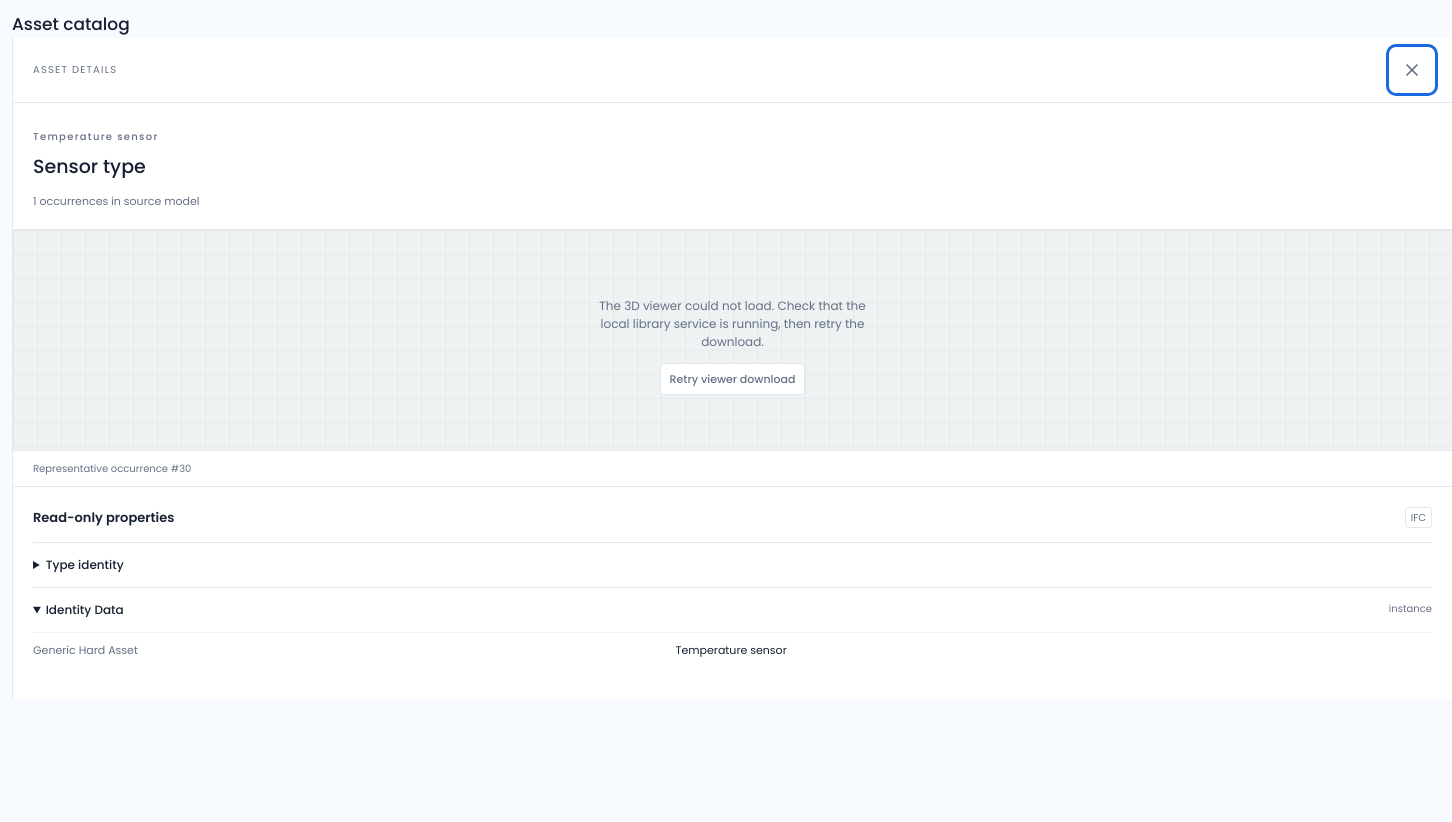
Test: keeps catalog and properties available after a viewer download fails, then retries the loader
The width and height of the screenshot is (1452, 822).
Check: the heading "Asset catalog" is shown, box [12, 12, 130, 36]
Check: the text "Generic Hard Asset" is shown, box [33, 642, 138, 658]
Click the button "Retry viewer download".
click(732, 379)  # box [660, 363, 805, 395]
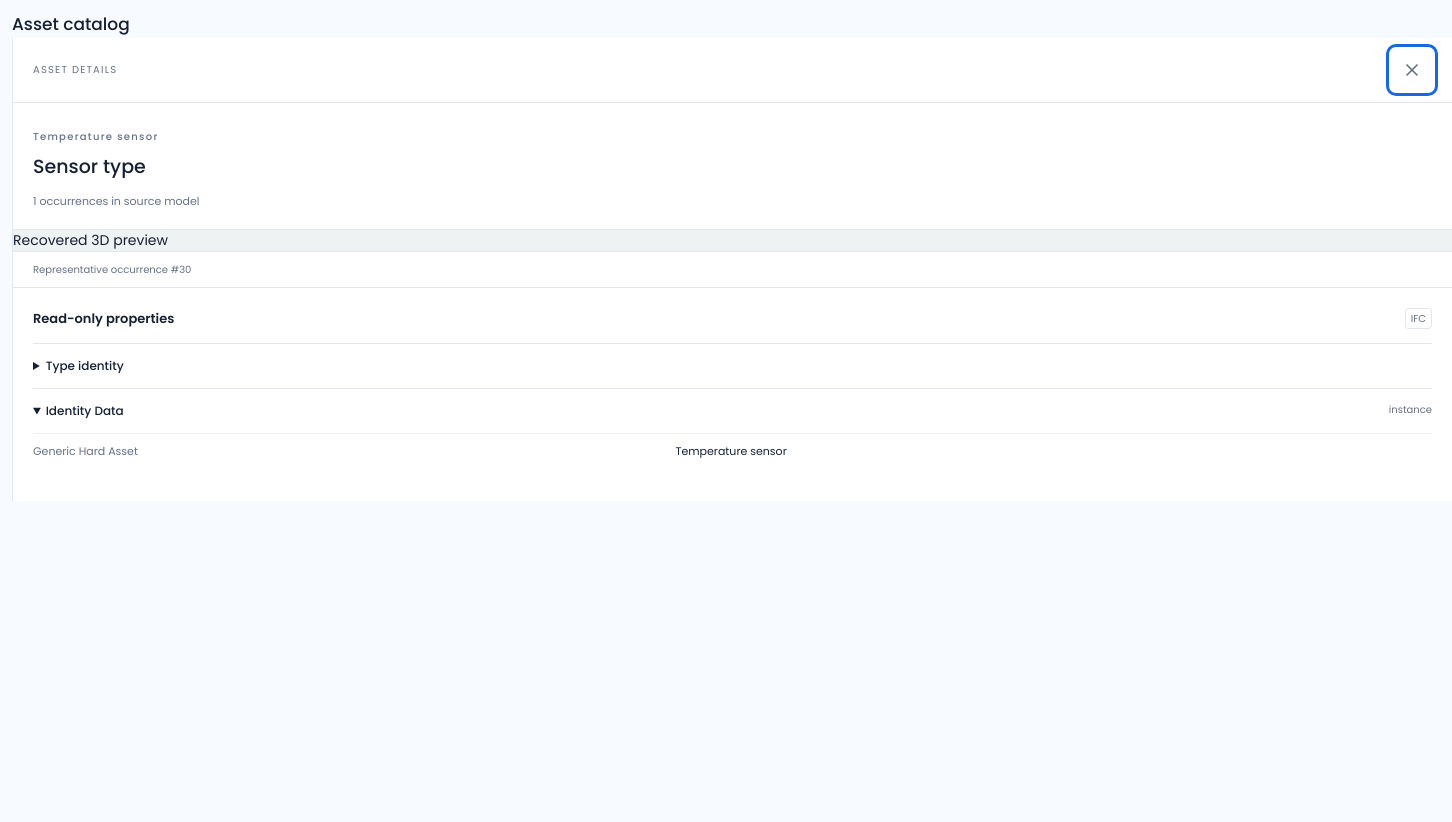
Check: the text "Generic Hard Asset" is shown, box [33, 443, 138, 459]
Check: the text "Recovered 3D preview" is shown, box [13, 230, 168, 250]
Check: the button "Retry viewer download" is gone
